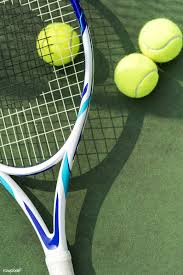tennis_ball: (137, 17, 183, 64), (113, 52, 159, 99), (36, 22, 81, 66)
